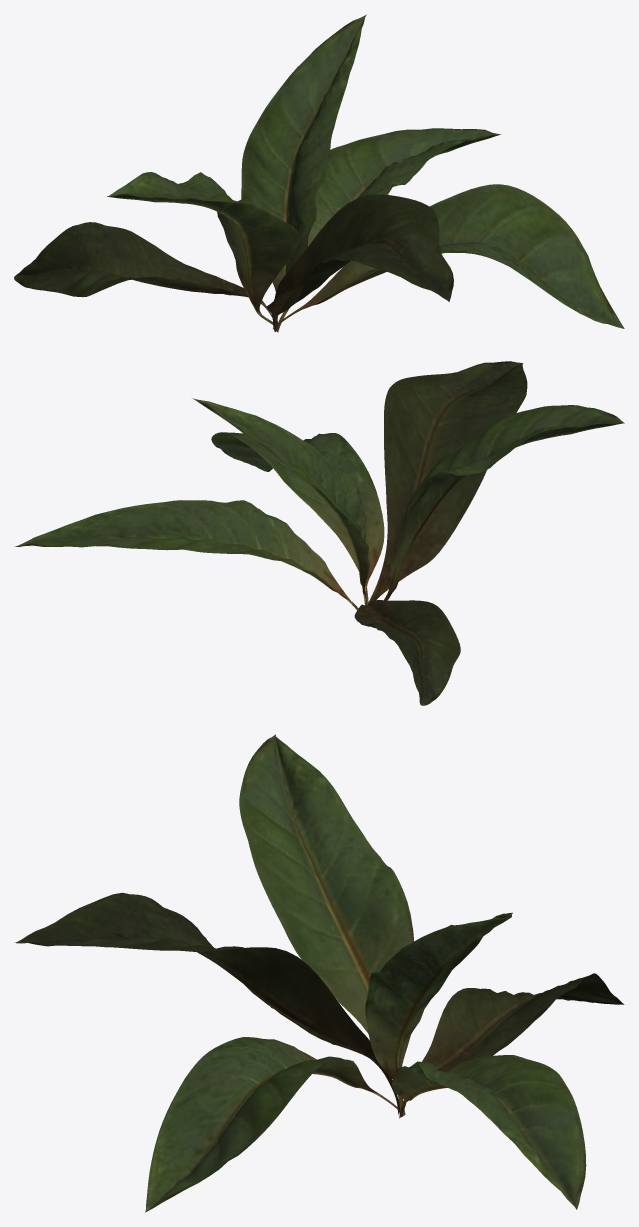
The model's file is anthurium_botany_01_e.gltf.
The picture shows the model from 3 angles, top to bottom: view 1: azimuth 30°, elevation 25°; view 2: azimuth 150°, elevation 25°; view 3: azimuth 270°, elevation 25°; orthographic projection. The views are drawn at different scales.
Visible parts, largest first — view 1: anthurium_botany_06_f; view 2: anthurium_botany_06_f; view 3: anthurium_botany_06_f.
Boxes of the visible parts, x1,y1,x2,y2 form: anthurium_botany_06_f: (14,14,624,332); anthurium_botany_06_f: (14,361,624,705); anthurium_botany_06_f: (15,734,624,1212).
Size of the model in its own units: 0.3132 by 0.1395 by 0.2787.
Materials: 1 (1 with a texture image).
